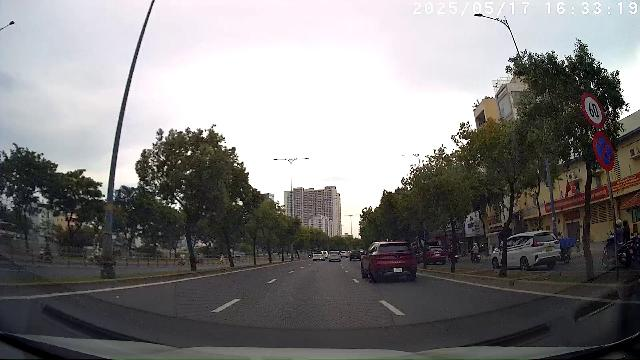127-toc-do-toi-da-60: (580, 92, 605, 129)
130-cam-dung-va-do-xe: (592, 131, 615, 171)
